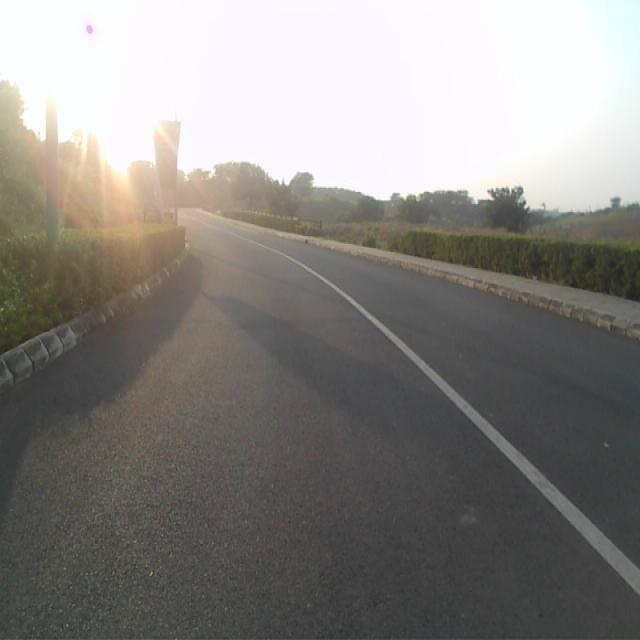lane: (0, 234, 640, 640)
